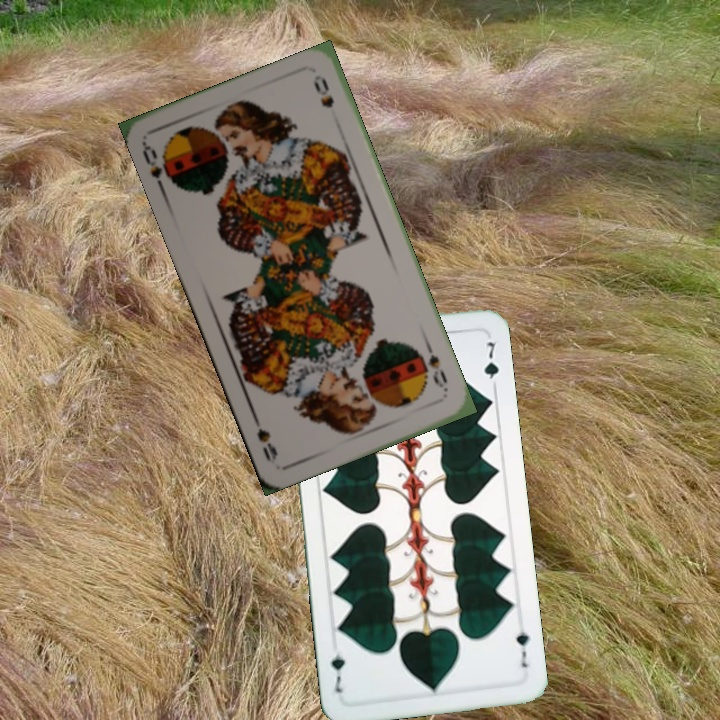G7: (512, 627, 532, 670)
SO: (138, 139, 180, 196), (416, 339, 451, 394)
